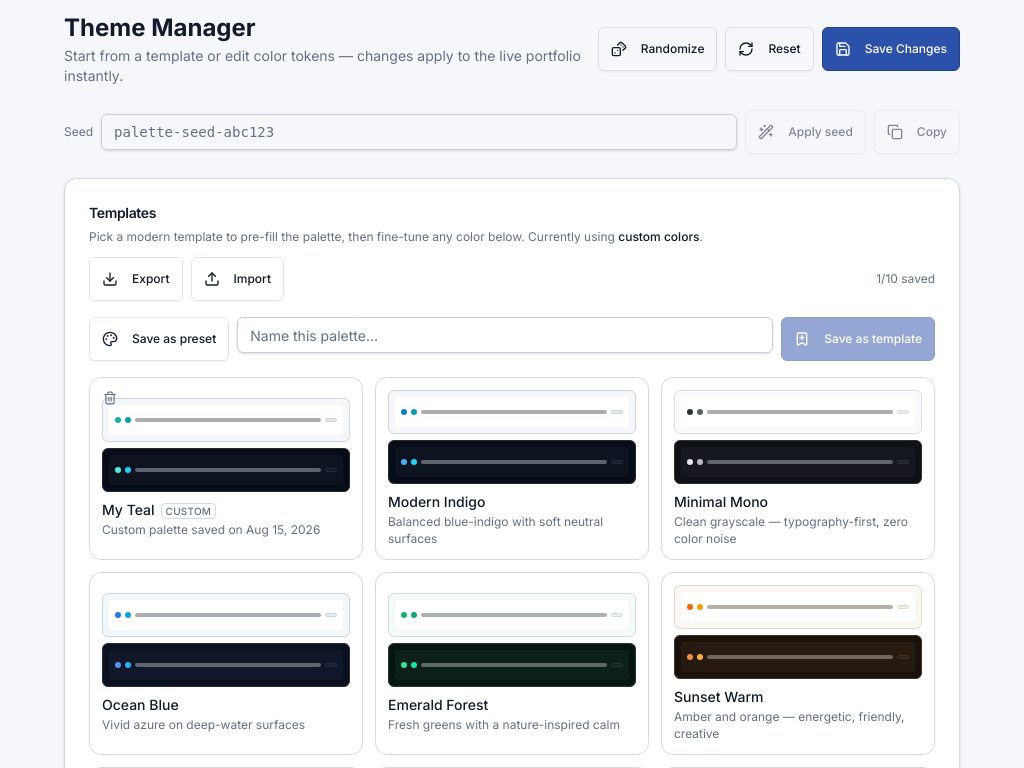
Test: ThemeManager › applies a saved custom template and then deletes it via the API
This screenshot has width=1024, height=768.
Note: Saved template is rendered and can be applied.
Click the button with aria-label "Apply My Teal template" at (226, 468), box left=89, top=377, right=363, bottom=560
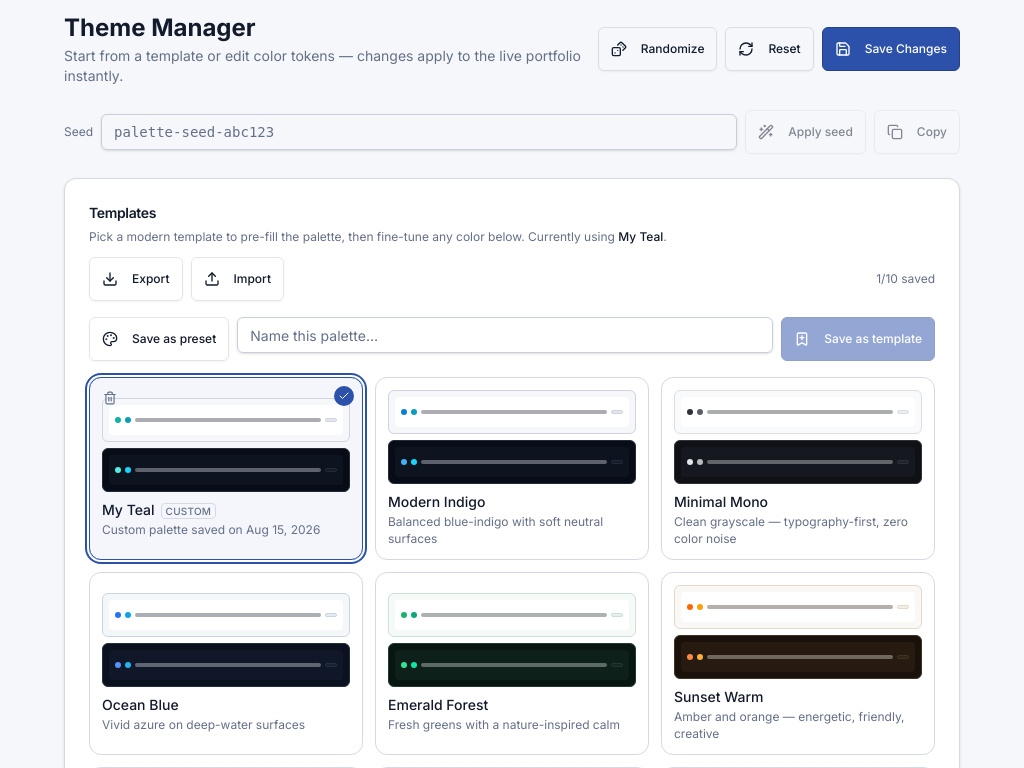
Now the text "currently using" shows "My Teal", box left=618, top=229, right=663, bottom=244
Note: And deleted again — the API delete + refetch remove it from the grid.
Click the button named "Delete My Teal template" at (110, 398), box left=98, top=386, right=122, bottom=410
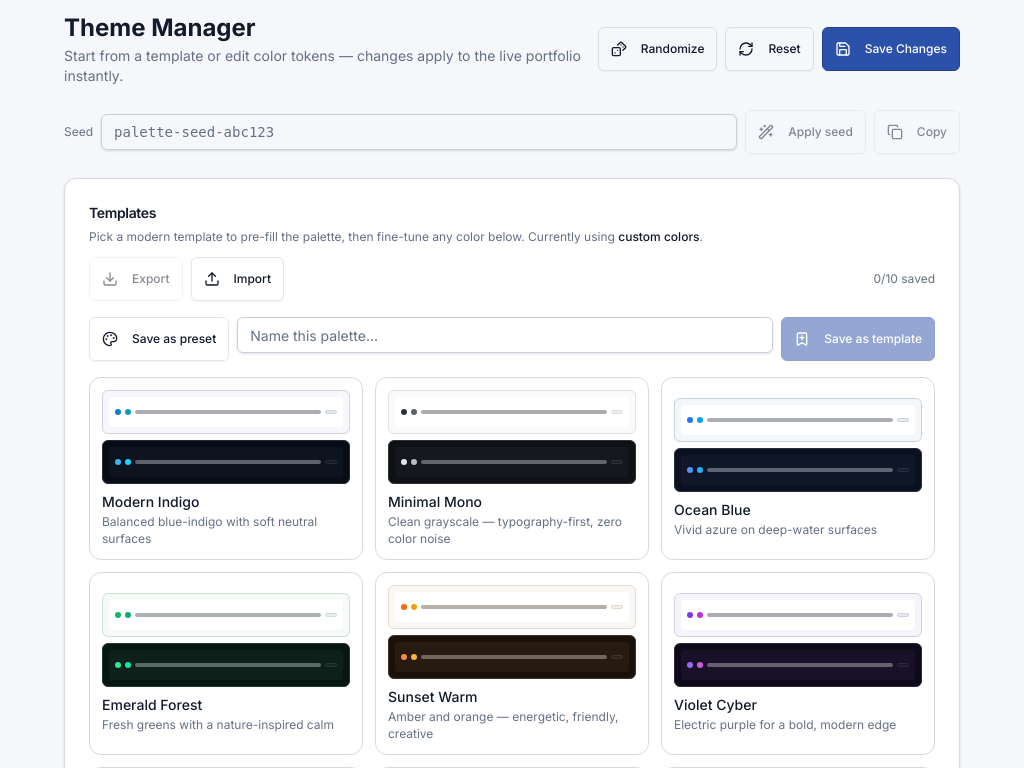
Now the text "My Teal" is gone
